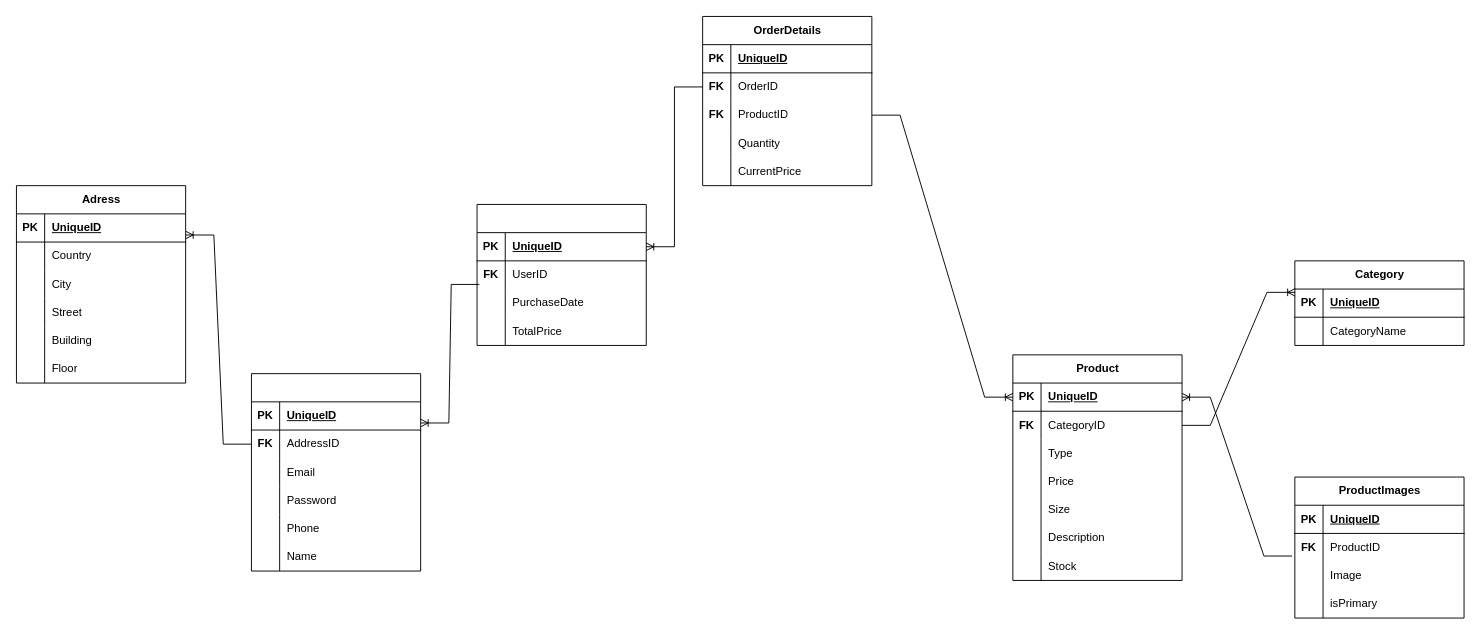
The diagram is 1481 pixels wide and 635 high, and some of its shapes have lost their labels. Here are the shapes that lost their labels. From the top down, the box of each, then its label:
(476, 204, 646, 345): Order
(251, 373, 421, 571): User
